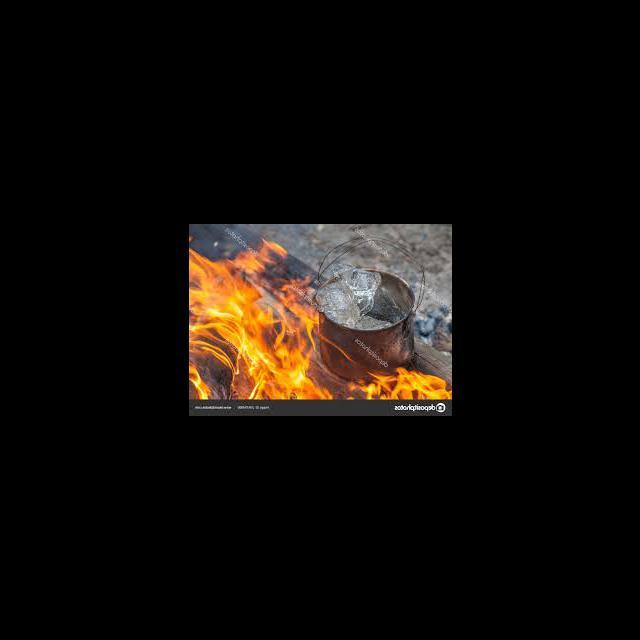Fire: (188, 228, 318, 399), (346, 361, 449, 399)
